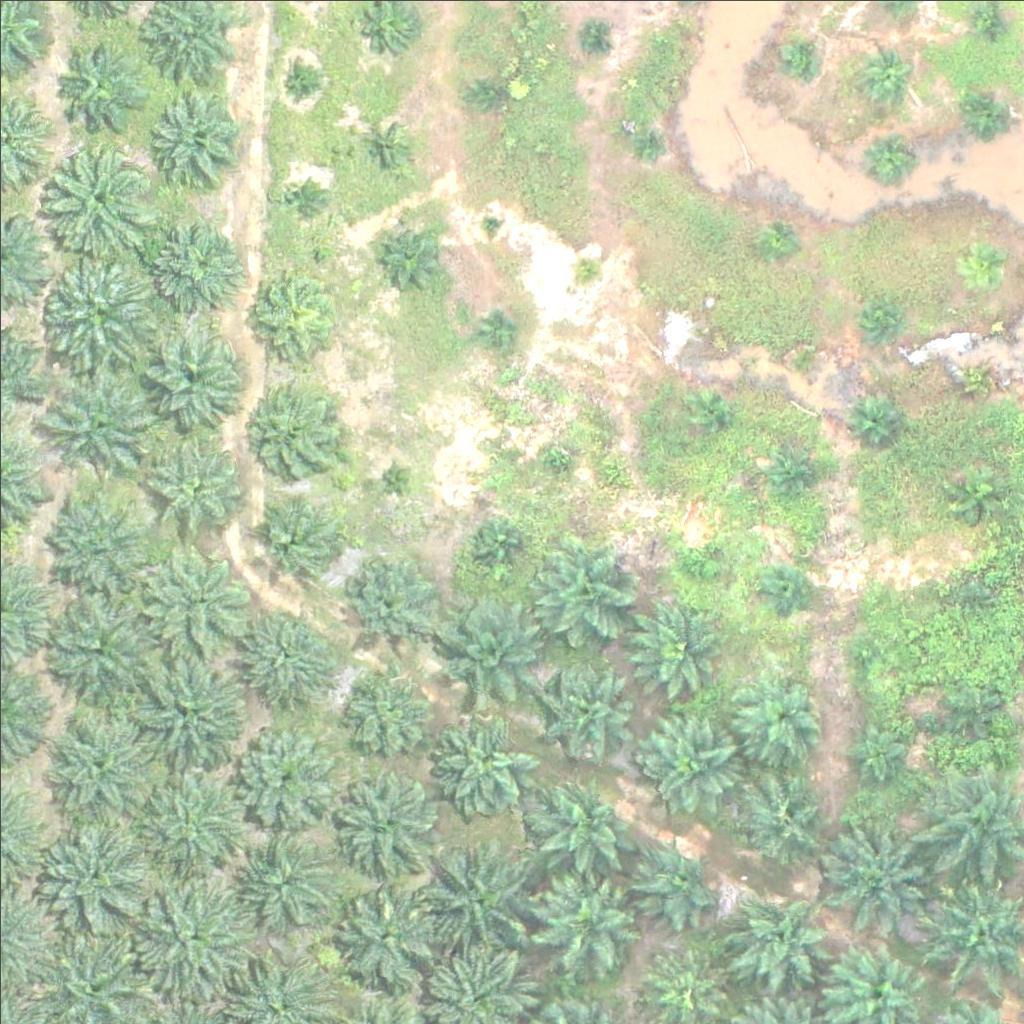Kelapa_Sawit: (127, 649, 252, 775), (130, 756, 255, 882), (130, 878, 255, 1004), (29, 805, 154, 931), (36, 585, 161, 711), (38, 249, 163, 374), (38, 130, 163, 255), (819, 817, 932, 930), (419, 838, 532, 951), (428, 589, 541, 702), (43, 705, 156, 818), (41, 484, 154, 597), (44, 366, 157, 479), (140, 539, 252, 652), (534, 777, 634, 878), (639, 708, 739, 809), (728, 890, 828, 991), (735, 771, 835, 872), (433, 710, 533, 811), (336, 762, 436, 863), (338, 883, 438, 984), (232, 724, 332, 825), (236, 599, 336, 700), (150, 445, 250, 546), (139, 328, 239, 429), (142, 209, 242, 310), (145, 81, 245, 182), (247, 490, 347, 591), (245, 384, 345, 485), (240, 263, 340, 364), (534, 536, 634, 637), (538, 868, 638, 968), (631, 597, 731, 697), (631, 836, 719, 924), (544, 666, 632, 754), (241, 832, 329, 920), (50, 39, 138, 127), (734, 668, 821, 757), (345, 557, 432, 646), (346, 665, 433, 753), (382, 220, 445, 283), (843, 726, 905, 789), (951, 469, 1001, 520), (854, 389, 904, 440), (959, 232, 1009, 283), (864, 131, 914, 182), (476, 518, 526, 569), (365, 2, 415, 53), (946, 360, 996, 411), (966, 93, 1016, 143), (859, 48, 909, 98), (944, 681, 994, 731), (770, 445, 820, 495), (757, 568, 807, 618), (471, 73, 509, 111), (679, 545, 717, 583), (688, 394, 726, 432), (536, 438, 574, 476), (374, 457, 412, 495), (568, 248, 606, 286), (966, 3, 1004, 41), (277, 179, 315, 217), (779, 36, 816, 74), (284, 62, 321, 100), (366, 129, 403, 167), (571, 19, 609, 56), (951, 578, 988, 616), (846, 633, 883, 671), (485, 309, 522, 347), (788, 348, 825, 386), (862, 299, 899, 336), (757, 226, 794, 263), (626, 128, 663, 165), (478, 212, 503, 237)
